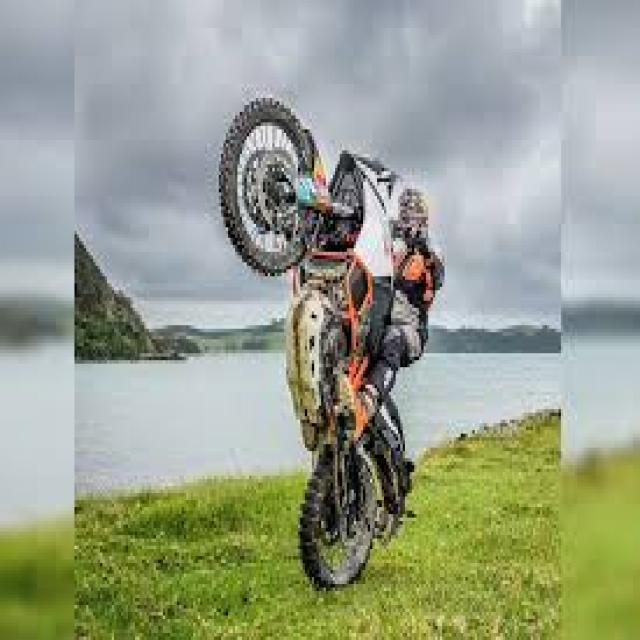Wheeling: (175, 43, 480, 640)
